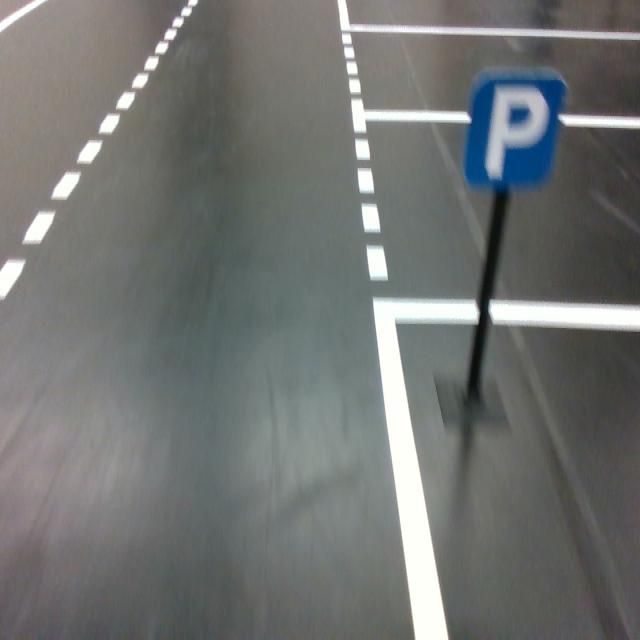parking-sign: (461, 66, 569, 193)
